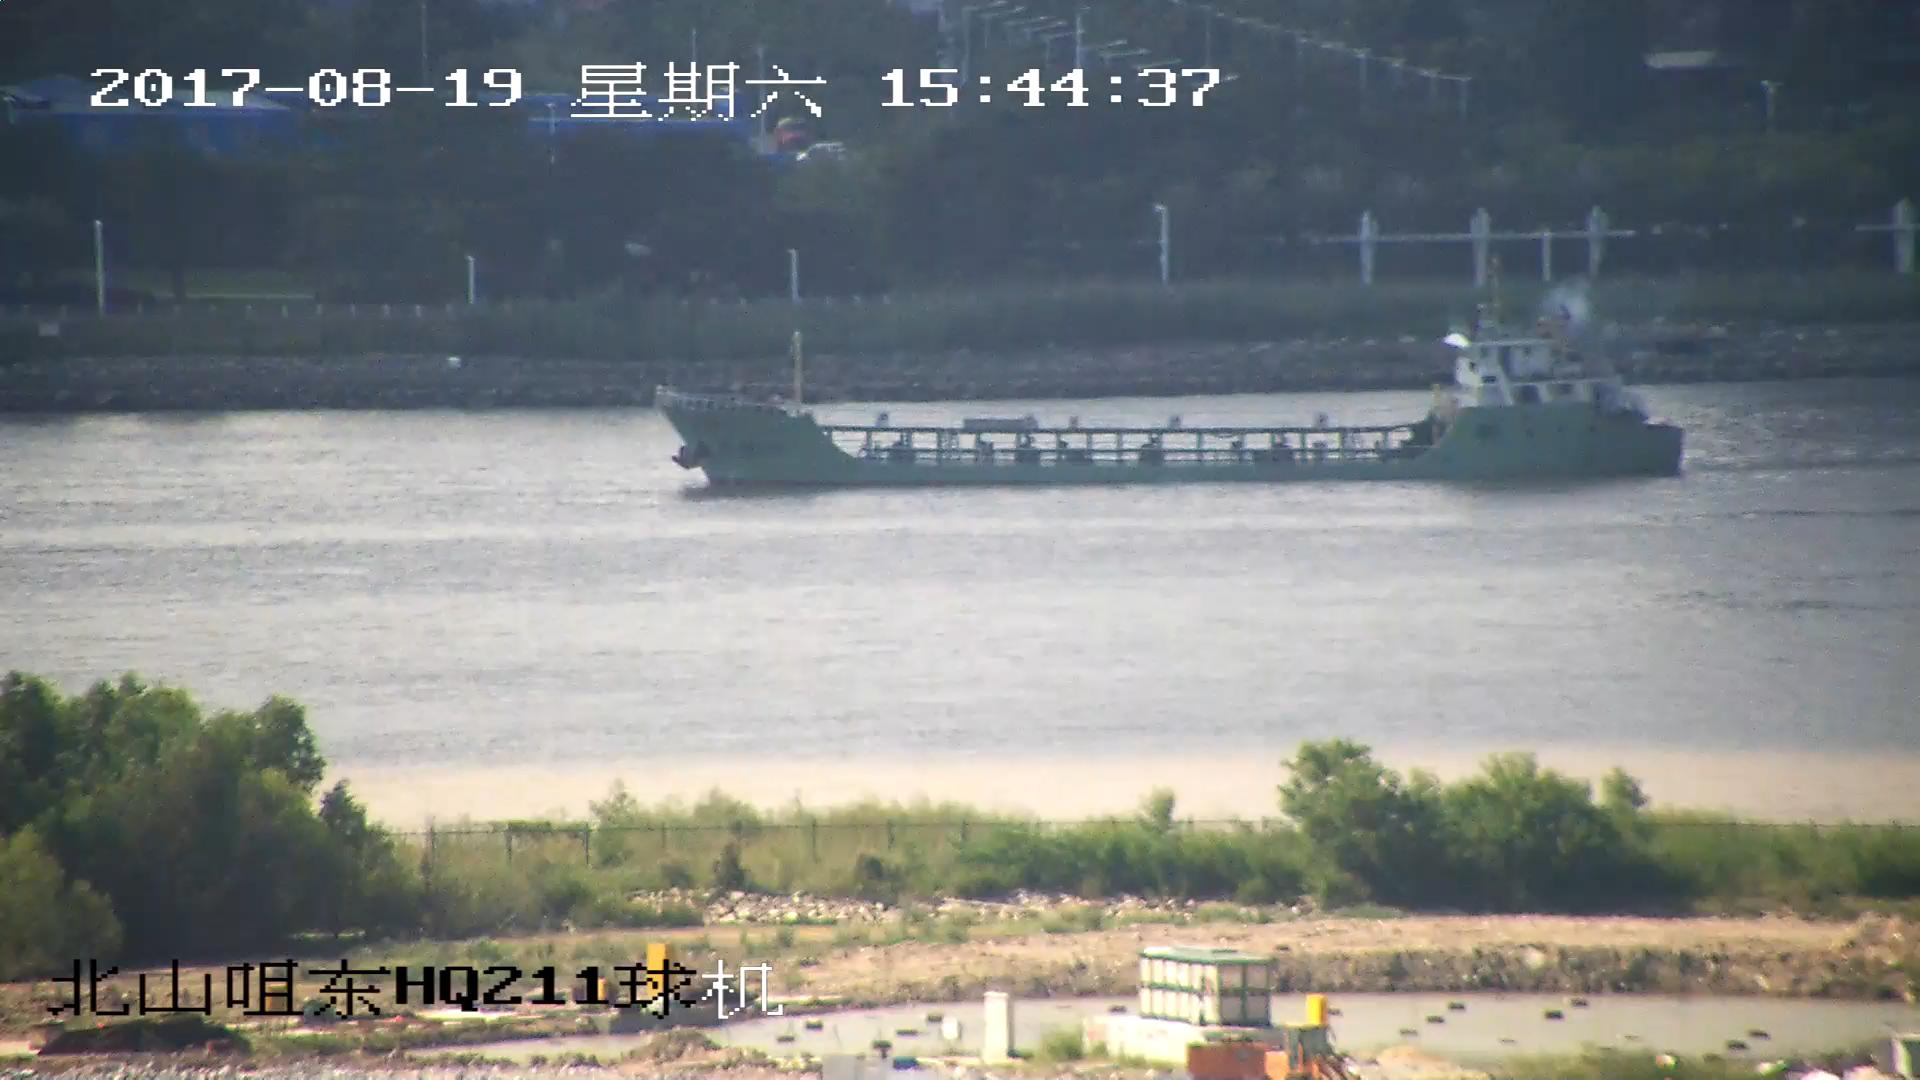general cargo ship: (652, 301, 1689, 483)
